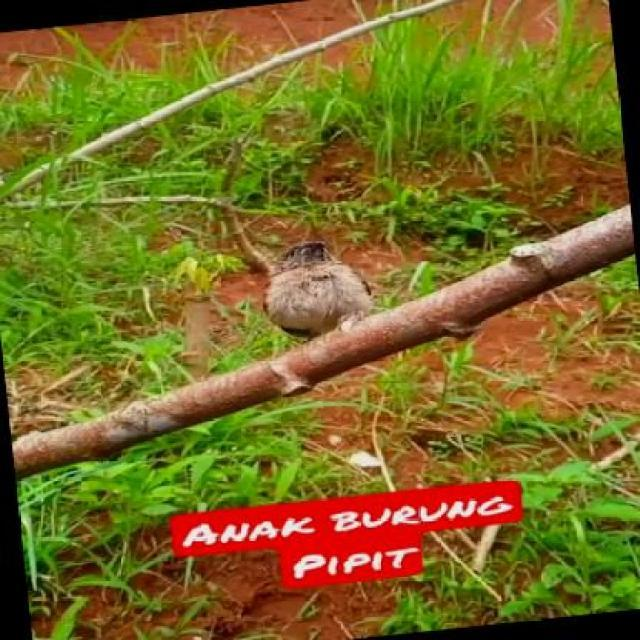Bird: (258, 235, 382, 334)
